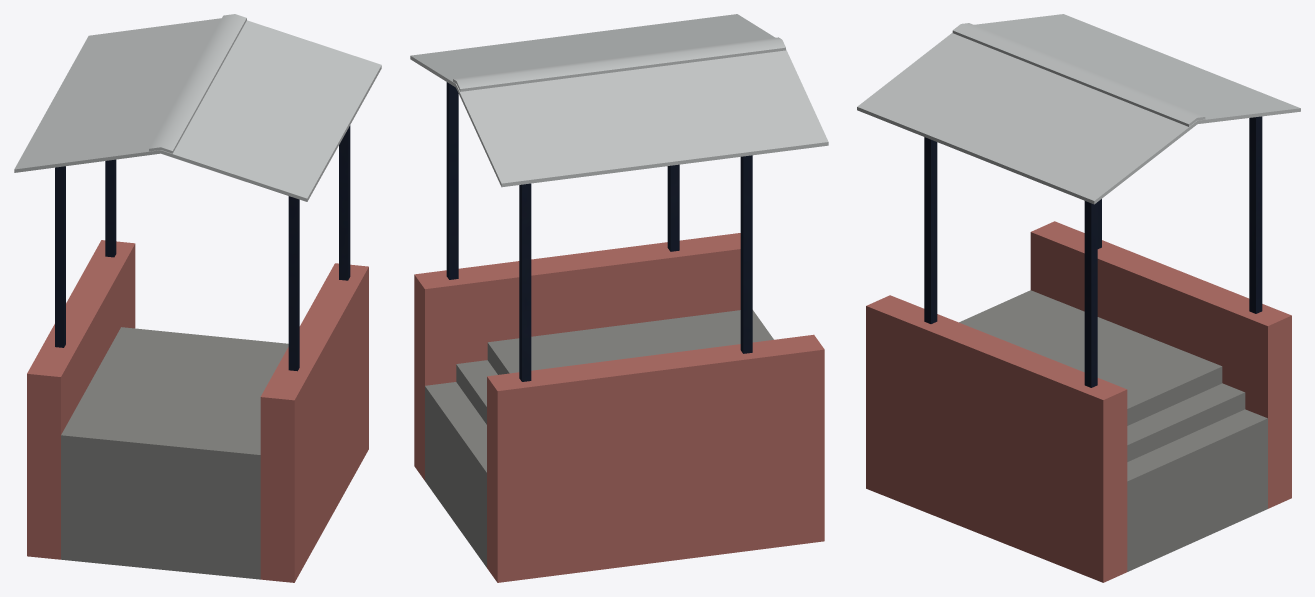
3 views of the same model, side by side, from view 1: azimuth 30°, elevation 25°; view 2: azimuth 150°, elevation 25°; view 3: azimuth 270°, elevation 25° (orthographic). The views are drawn at different scales.
Visible parts, largest first — view 1: 01080-50@500011896; view 2: 01080-50@500011896; view 3: 01080-50@500011896.
Boxes of the visible parts, x1,y1,x2,y2 form: 01080-50@500011896: [14, 14, 381, 582]; 01080-50@500011896: [410, 14, 828, 582]; 01080-50@500011896: [857, 14, 1300, 582].
Bounding box in the file's own units: 3.55 × 3.74 × 3.56.
1 material, 1 textured.
